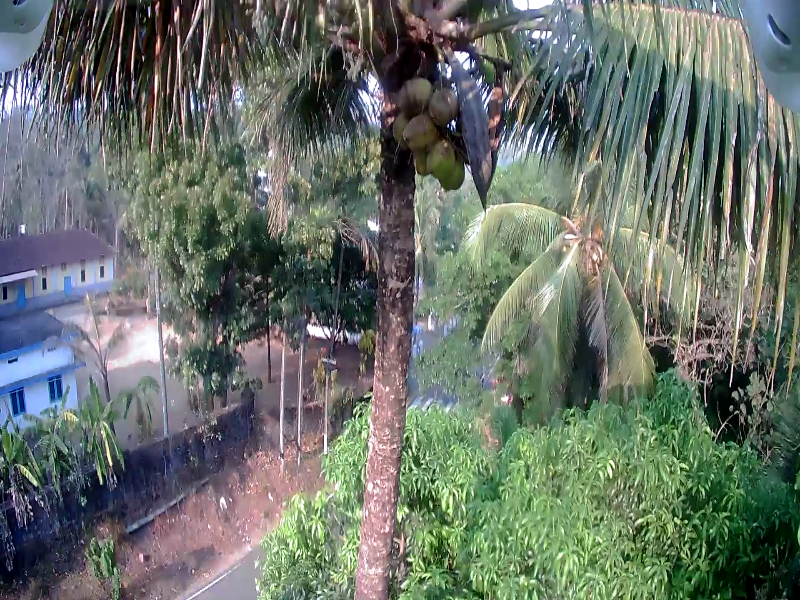coconut: (434, 87, 461, 127), (393, 79, 431, 106), (403, 116, 434, 144), (430, 144, 451, 180), (390, 116, 415, 146), (414, 148, 435, 176), (446, 157, 462, 187)
